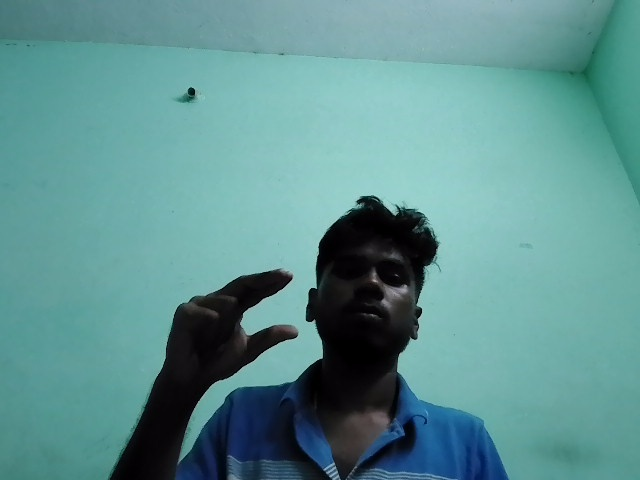No: (145, 259, 335, 393)
